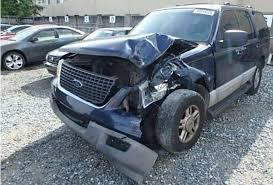bonnet-dent: (64, 32, 181, 65)
fender-dent: (158, 48, 213, 97)
front-bumper-dent: (53, 94, 131, 134)
